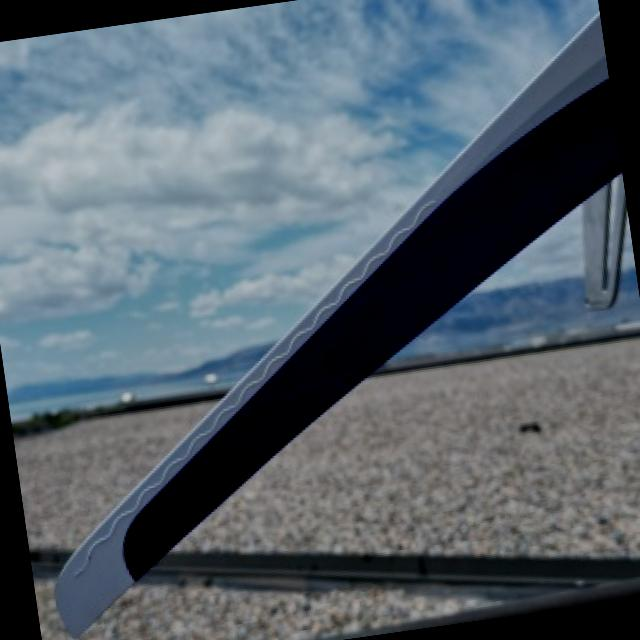healthy: (406, 220, 640, 351)
